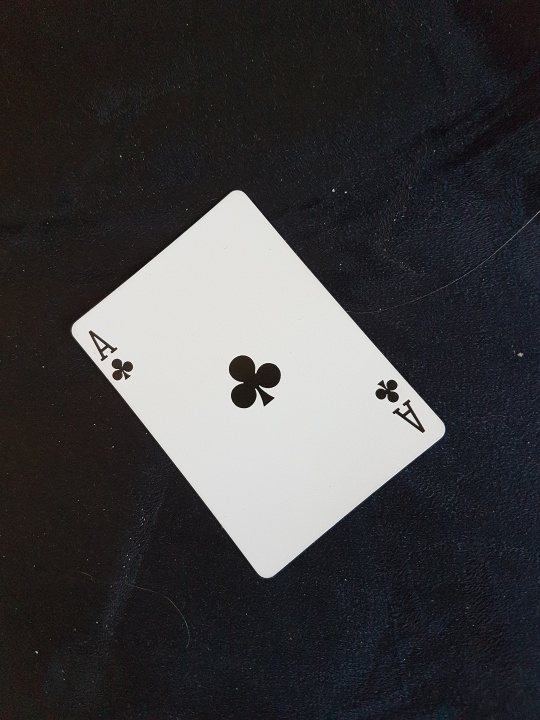ace: (59, 183, 461, 596)
